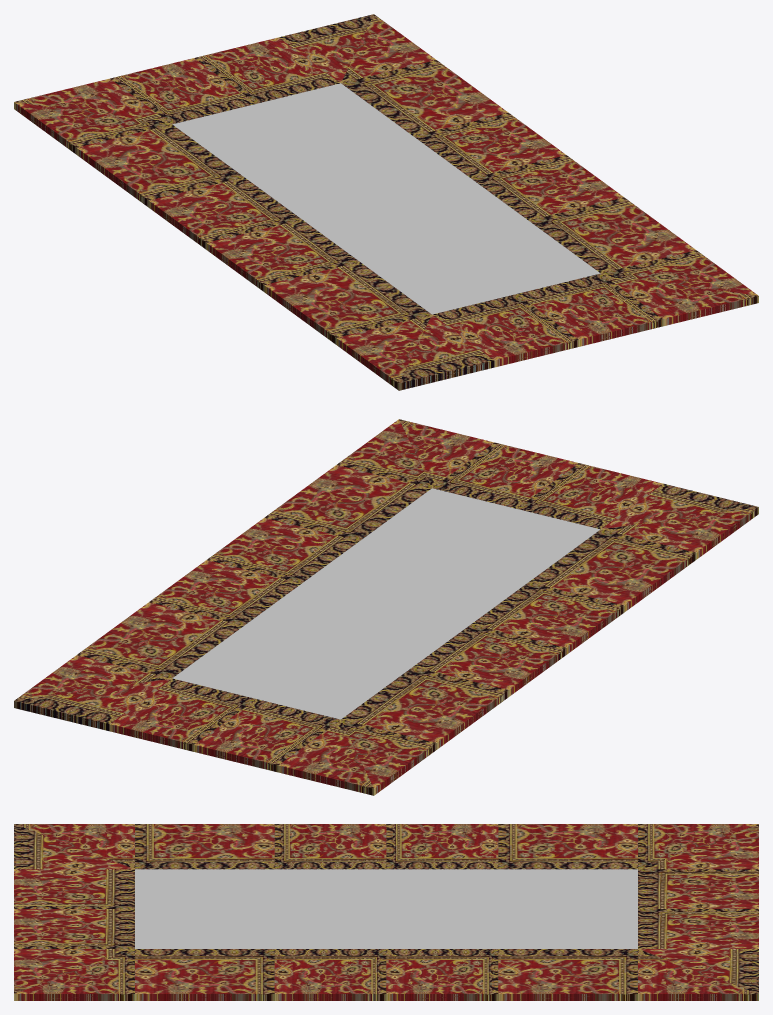
The model's file is Carpet_Grand.fbx.
3 views of the same model, one above another, from view 1: azimuth 30°, elevation 25°; view 2: azimuth 150°, elevation 25°; view 3: azimuth 270°, elevation 25° (orthographic). The views are drawn at different scales.
Visible parts, largest first — view 1: GrandCarpet; view 2: GrandCarpet; view 3: GrandCarpet.
Part boxes in pixels (left/top/right/bottom): GrandCarpet: left=14, top=14, right=758, bottom=390; GrandCarpet: left=14, top=419, right=758, bottom=795; GrandCarpet: left=14, top=824, right=758, bottom=1000.
Size of the model in its own units: 427 by 8.06 by 791.
